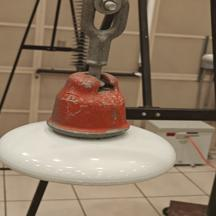insulator: (0, 69, 178, 191)
